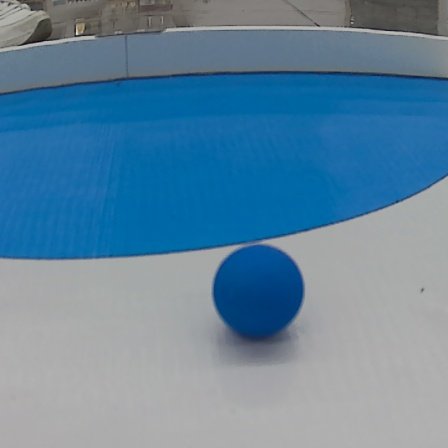blue: (210, 242, 309, 345)
blue_base: (0, 71, 448, 277)
